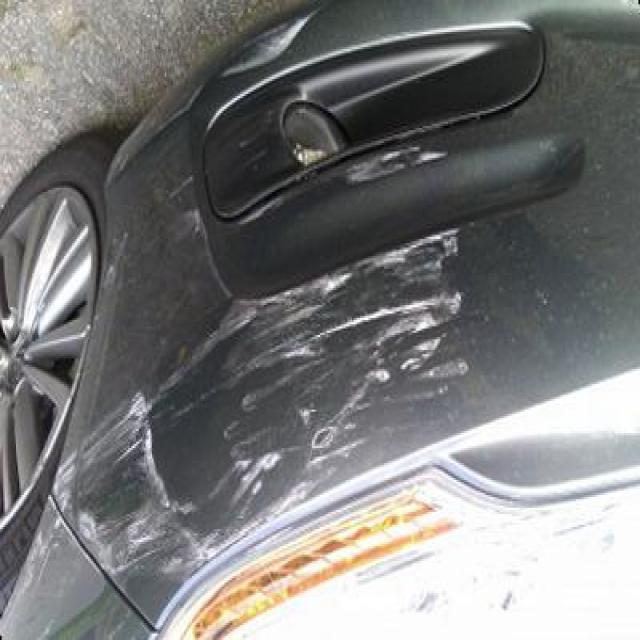scratch: (0, 226, 459, 640), (309, 132, 462, 214)
